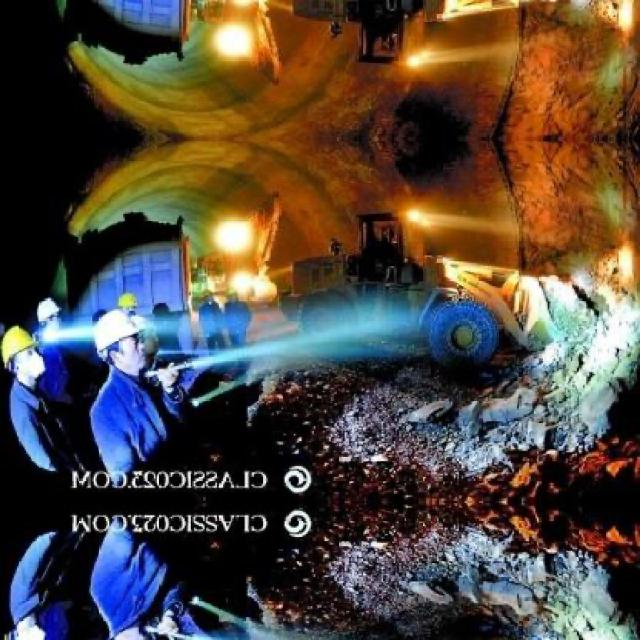con casco: (98, 308, 185, 391), (0, 316, 76, 393)
